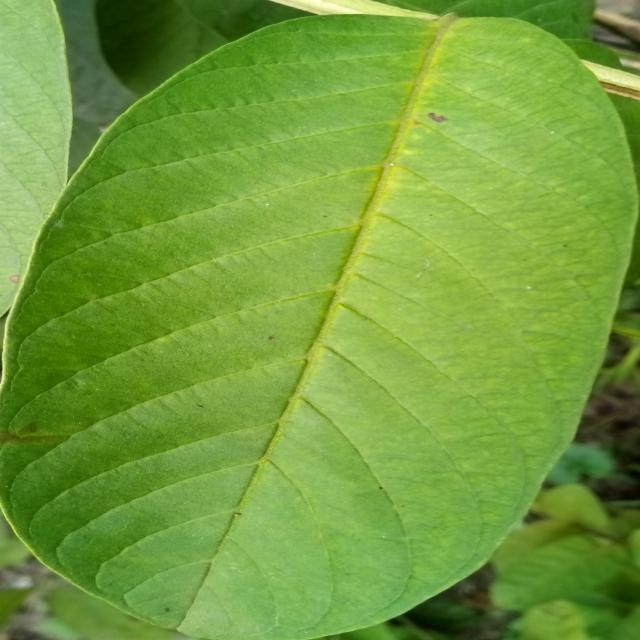Disease Free: (4, 15, 635, 640)
